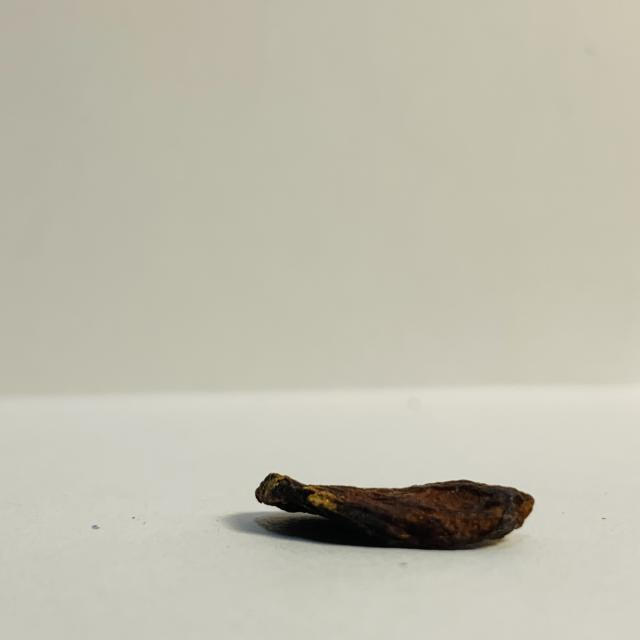Flat_cocoabeans: (219, 417, 562, 581)
